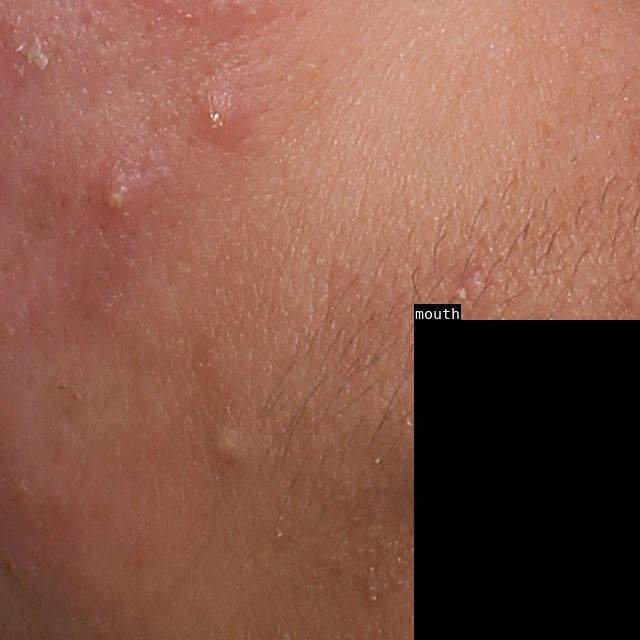comedo: (202, 423, 253, 478)
pustule: (85, 163, 158, 236), (186, 81, 253, 151)
